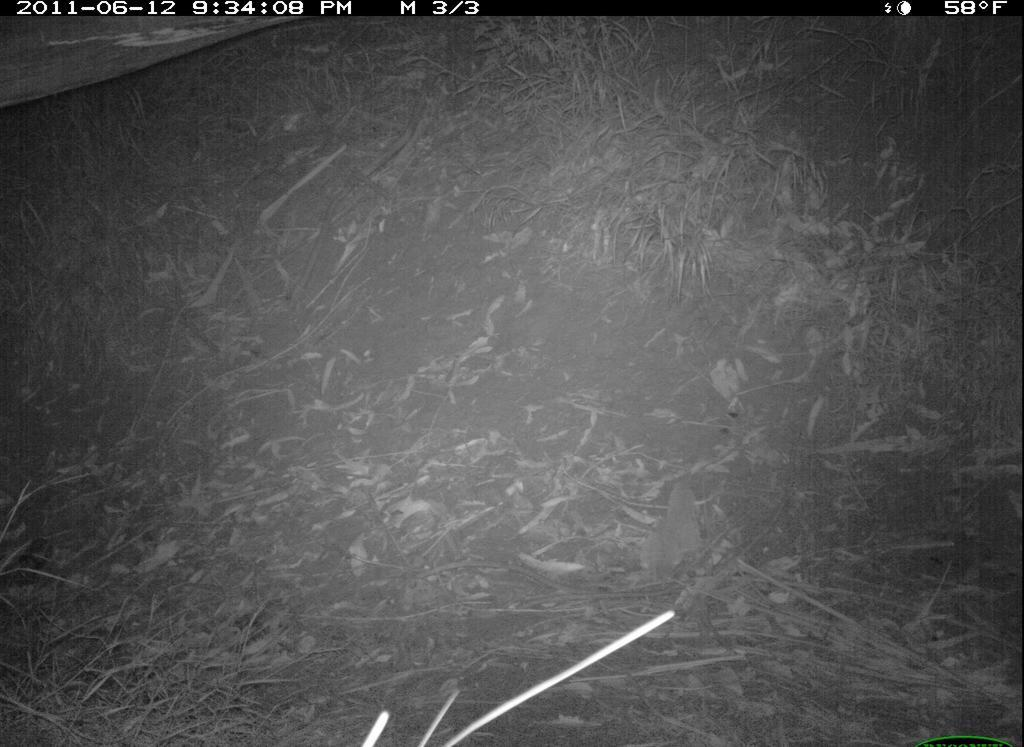rabbit: (638, 477, 711, 585)
